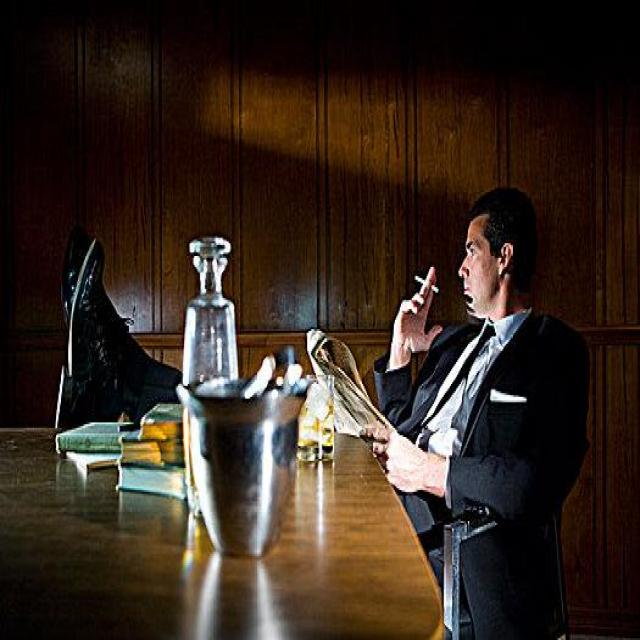smoke: (412, 269, 442, 300)
